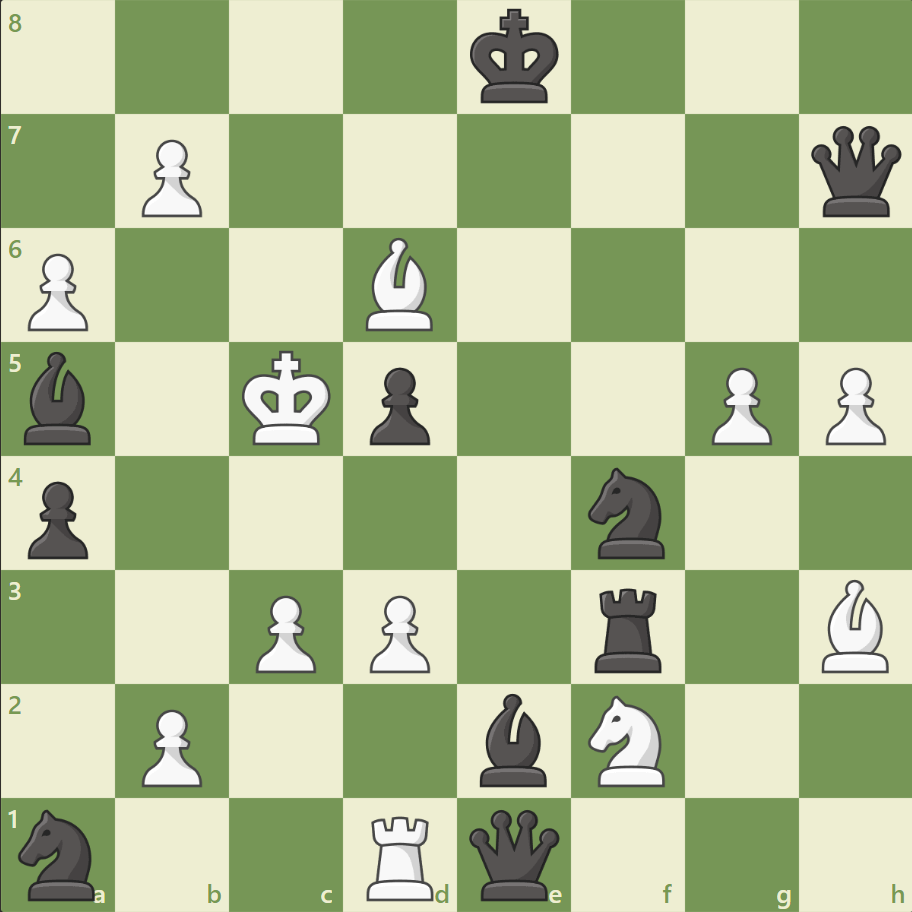B: (358, 233, 442, 336), (812, 574, 896, 676)
K: (238, 344, 338, 452)
N: (579, 688, 676, 791)
P: (133, 132, 208, 223), (20, 246, 95, 337), (701, 359, 776, 450), (247, 586, 322, 677), (133, 700, 208, 791), (815, 359, 889, 450), (361, 586, 435, 677)
R: (360, 806, 442, 904)
b: (471, 687, 555, 790), (17, 347, 101, 449)
k: (465, 4, 565, 112)
n: (579, 461, 676, 564), (11, 802, 108, 904)
p: (20, 473, 95, 564), (361, 359, 435, 450)
q: (805, 122, 904, 222), (464, 804, 563, 903)
r: (587, 579, 670, 676)
